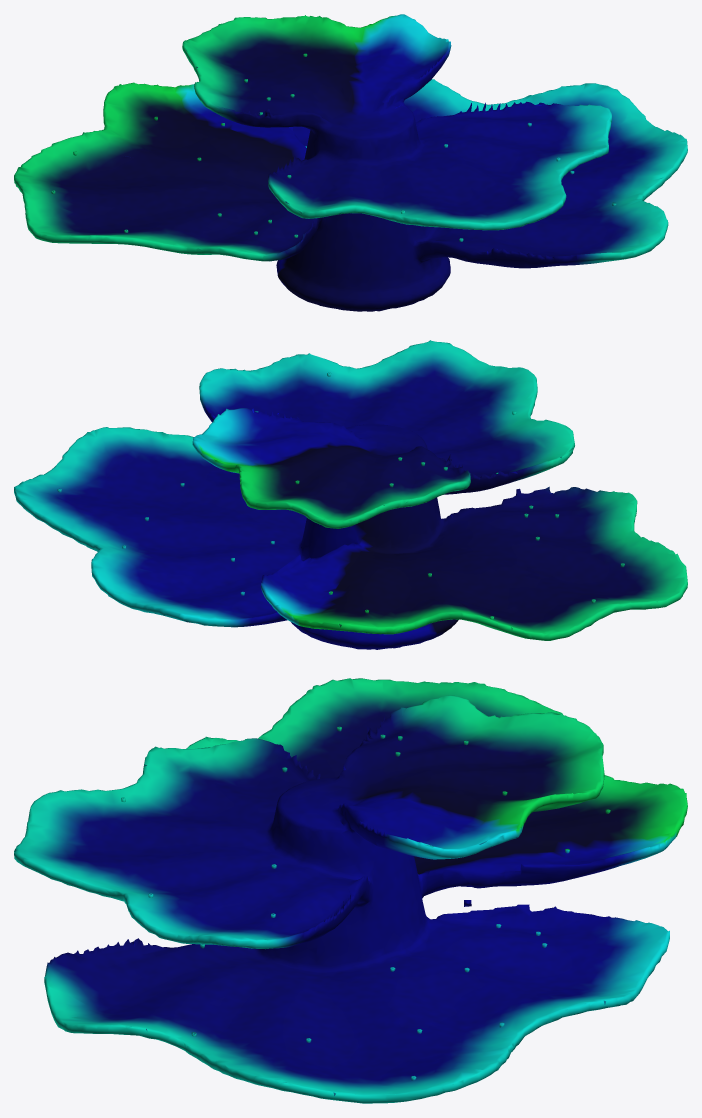
File: reef-montipora-tier-shelf.glb
3 views of the same model, one above another, from view 1: azimuth 30°, elevation 25°; view 2: azimuth 150°, elevation 25°; view 3: azimuth 270°, elevation 25° (orthographic). The views are drawn at different scales.
Visible parts, largest first — view 1: Reef_Montipora_Tier_Shelf; view 2: Reef_Montipora_Tier_Shelf; view 3: Reef_Montipora_Tier_Shelf.
Boxes of the visible parts, left/top/right/bottom form: Reef_Montipora_Tier_Shelf: left=14, top=14, right=687, bottom=311; Reef_Montipora_Tier_Shelf: left=14, top=340, right=687, bottom=649; Reef_Montipora_Tier_Shelf: left=14, top=678, right=687, bottom=1103.
Bounding box in the file's own units: 0.2052 × 0.0638 × 0.1562.
Materials: 1 (1 with a texture image).
